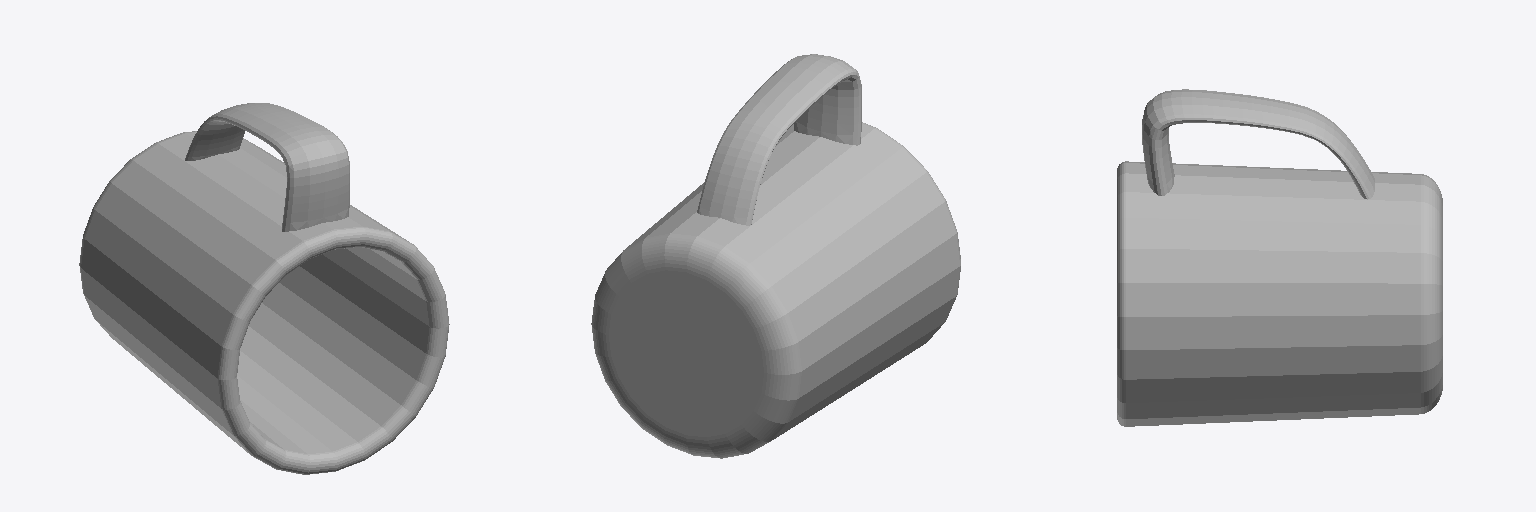
3 views of the same model, side by side, from view 1: azimuth 30°, elevation 25°; view 2: azimuth 150°, elevation 25°; view 3: azimuth 270°, elevation 25° (orthographic).
Visible parts, largest first — view 1: instance_cup_2; view 2: instance_cup_2; view 3: instance_cup_2.
Part boxes in pixels (x1,y1,x2,y2): instance_cup_2: (79, 103, 449, 474); instance_cup_2: (591, 54, 960, 458); instance_cup_2: (1117, 89, 1442, 426).
Bounding box in the file's own units: 0.0679 × 0.0893 × 0.0831.